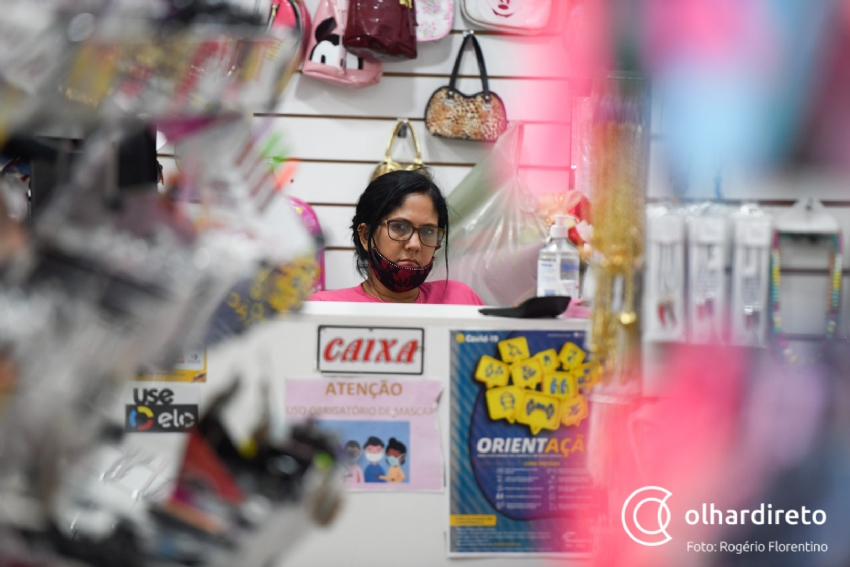mask_weared_incorrect: (358, 190, 444, 290)
